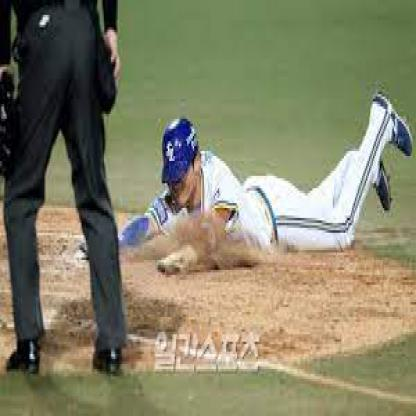Fall_Down: (70, 86, 413, 278)
